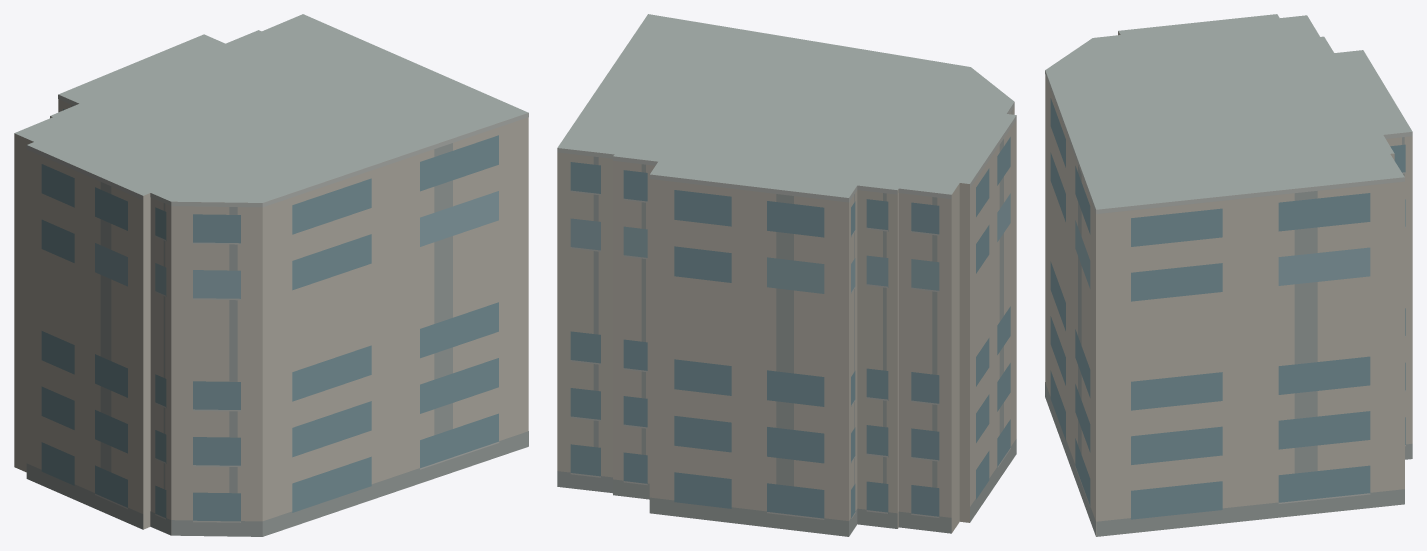
File: survey-upis-33012817.glb
3 views of the same model, side by side, from view 1: azimuth 30°, elevation 25°; view 2: azimuth 150°, elevation 25°; view 3: azimuth 270°, elevation 25° (orthographic). The views are drawn at different scales.
Parts seen in each view (by area): view 1: survey-upis-33012817.tmp; view 2: survey-upis-33012817.tmp; view 3: survey-upis-33012817.tmp.
Boxes of the visible parts, x1=… form: survey-upis-33012817.tmp: x1=14, y1=14, x2=528, y2=536; survey-upis-33012817.tmp: x1=557, y1=14, x2=1016, y2=536; survey-upis-33012817.tmp: x1=1045, y1=14, x2=1412, y2=536.
Bounding box in the file's own units: 23.5 × 18.3 × 18.64.
